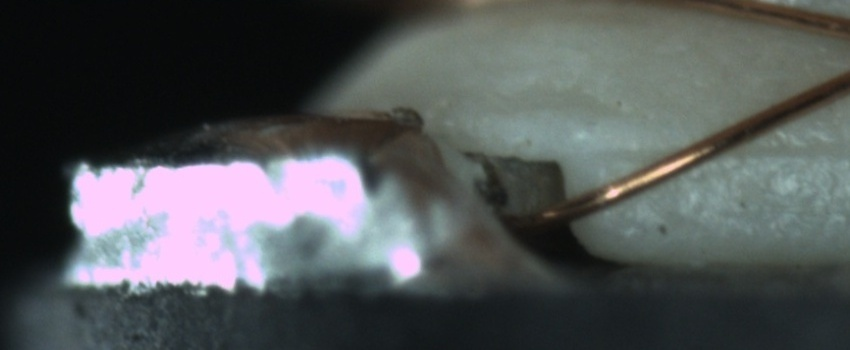DL: (615, 117, 850, 183)
